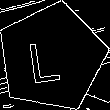L_N: (33, 30, 71, 85)
